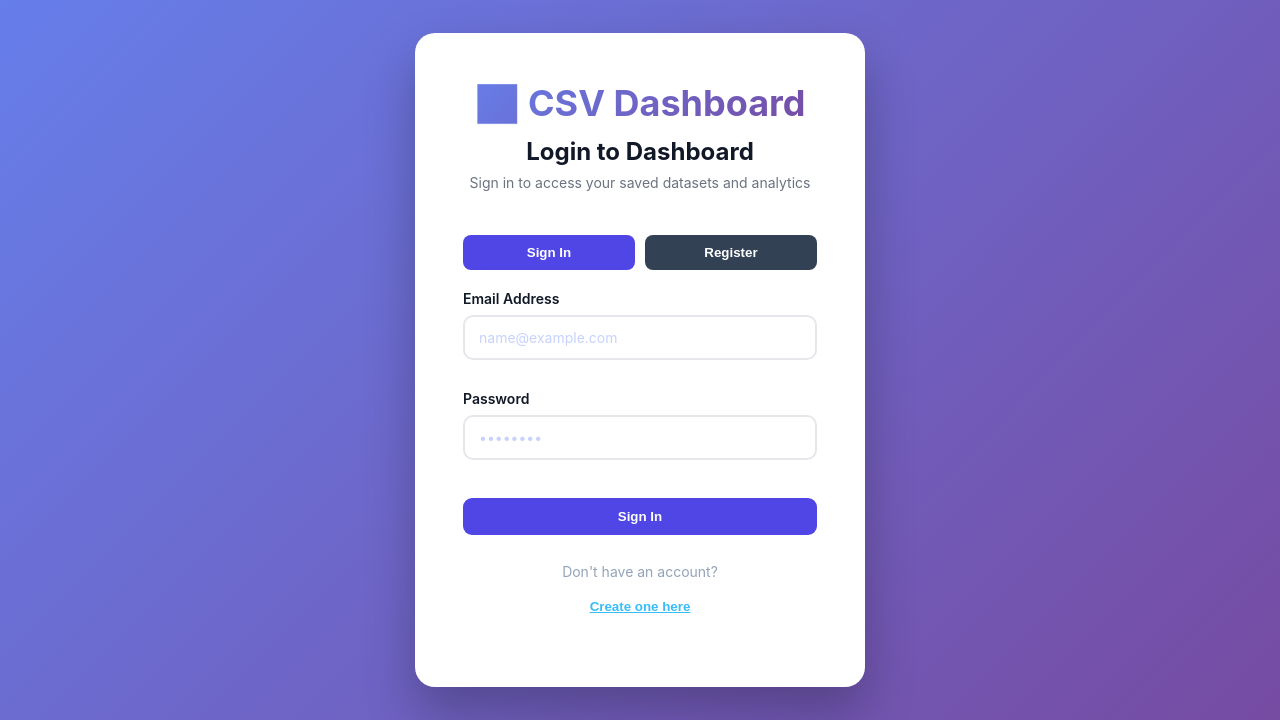
Test: AI Data Analyzer Frontend – Phase 3 Test Suite › Authentication Flow & Error Display › displays error banner when login fails with invalid credentials
Type "user@example.com" into the field labelled "Email Address".
click(640, 338); type("user@example.com")  # box 463,315 -> 817,360
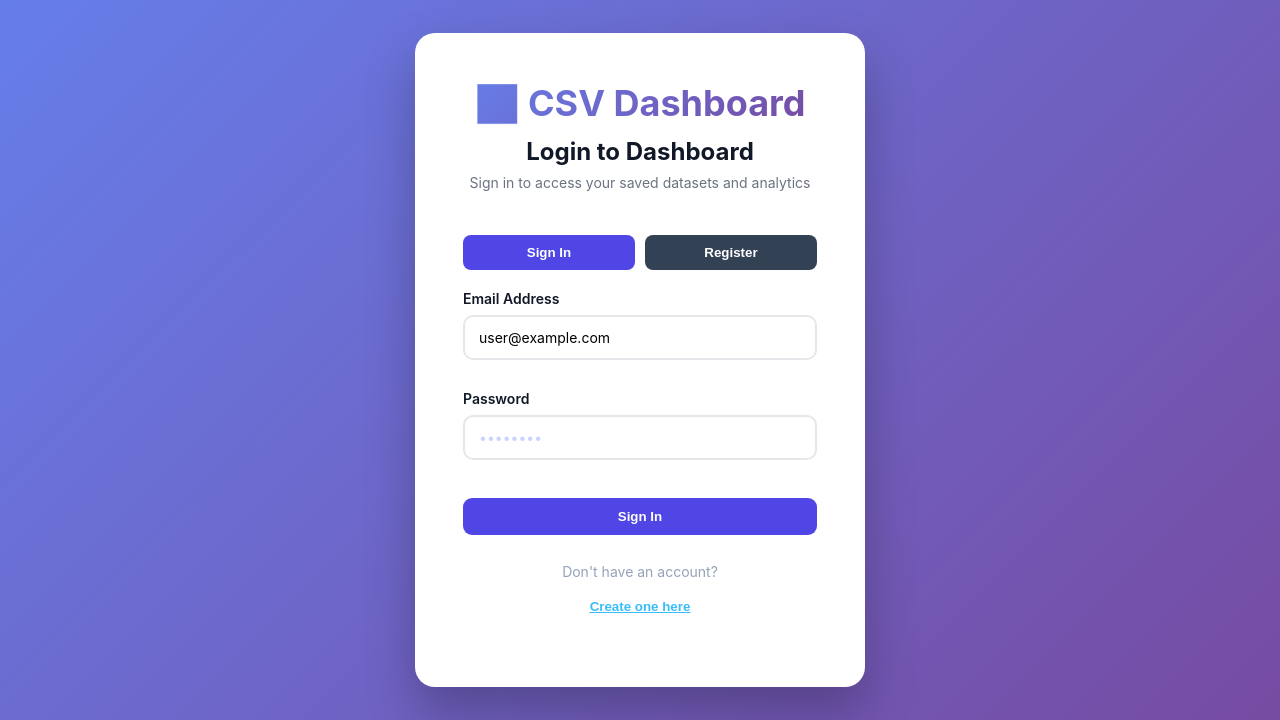
Type "WrongPass123!" into the password field labelled "Password".
click(640, 438); type("WrongPass123!")  # box 463,415 -> 817,460
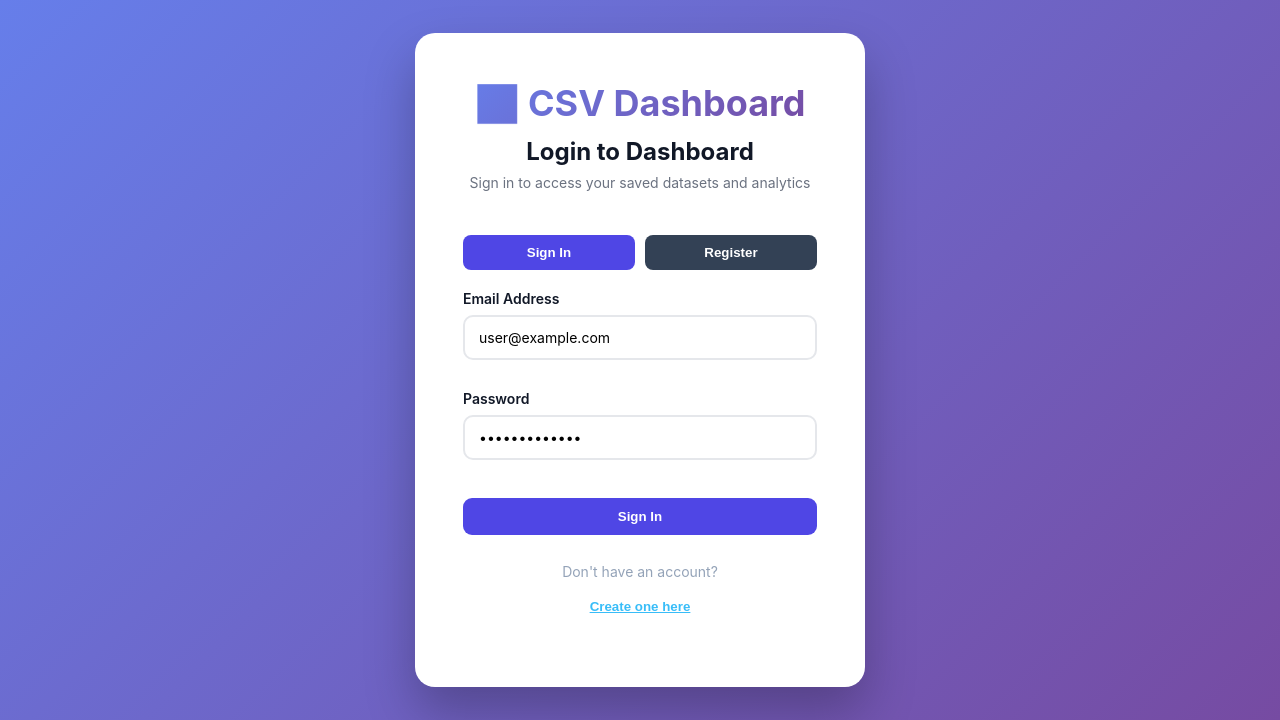
Click the button with test id "auth-submit-btn".
click(640, 516)  # box 463,498 -> 817,535
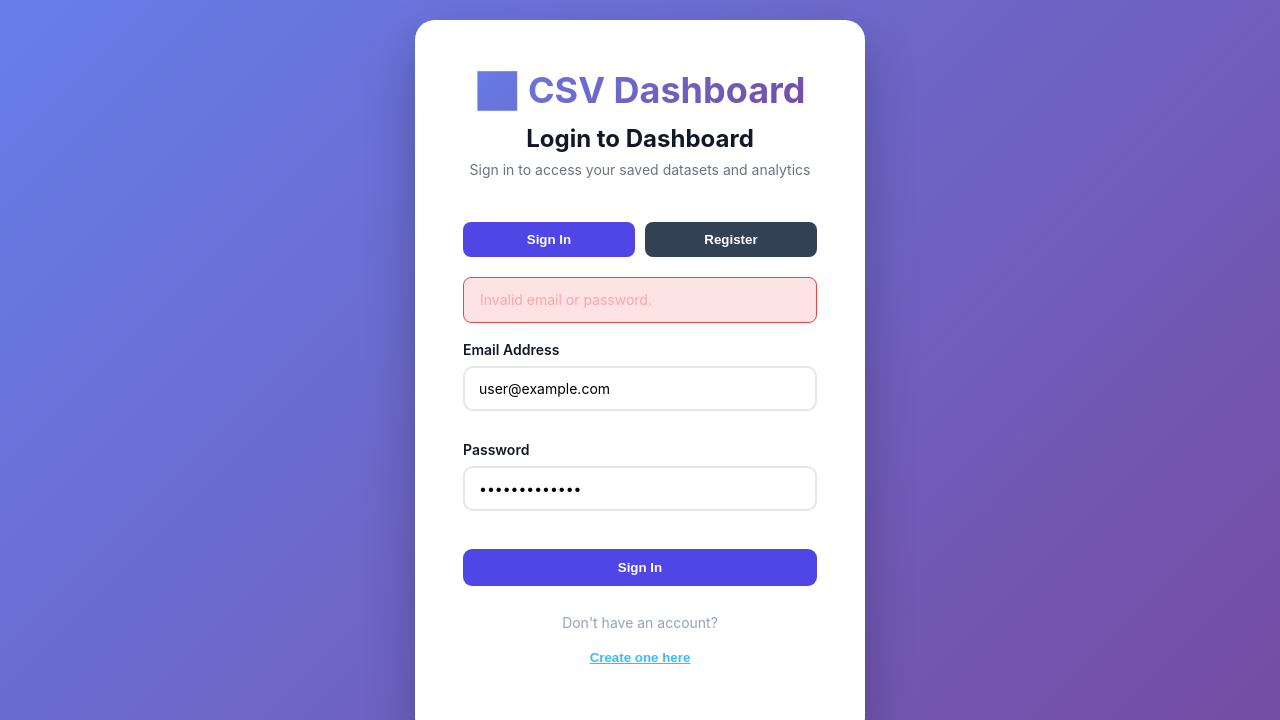
Check: the text "Invalid email or password." is shown, box 463,277 -> 817,323
